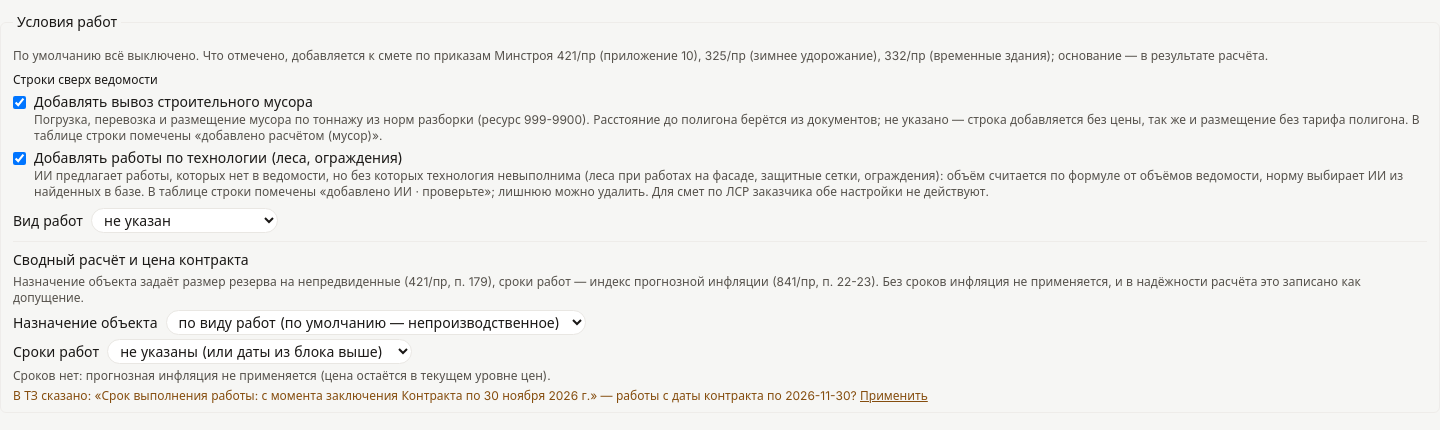
it: «Условия работ»: назначение объекта и сроки для сводного расчёта › подсказка по тексту ТЗ: «с момента заключения Контракта по 30 ноября 2026» — сама не применяется, кнопка применяет
Expected: the element with test id "term-hint" shows "В ТЗ сказано", [13,388,102,403]
Expected: the element with test id "term-hint" shows "работы с даты контракта по 2026-11-30", [616,388,857,403]
Click the button "Применить" at [894, 396], box [860,388,928,404]
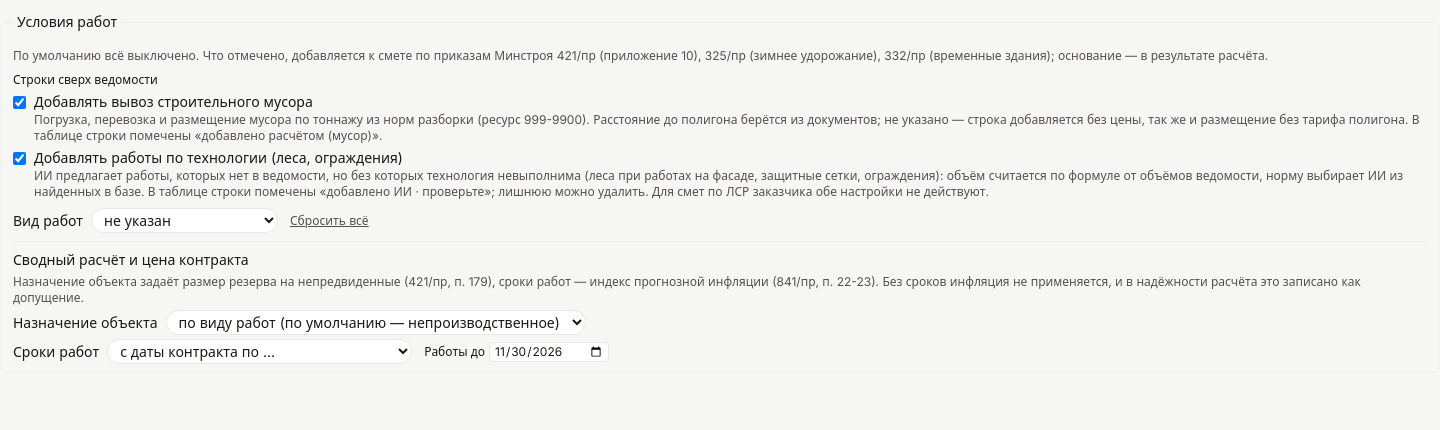
Expected: the element with test id "term-hint" is gone
